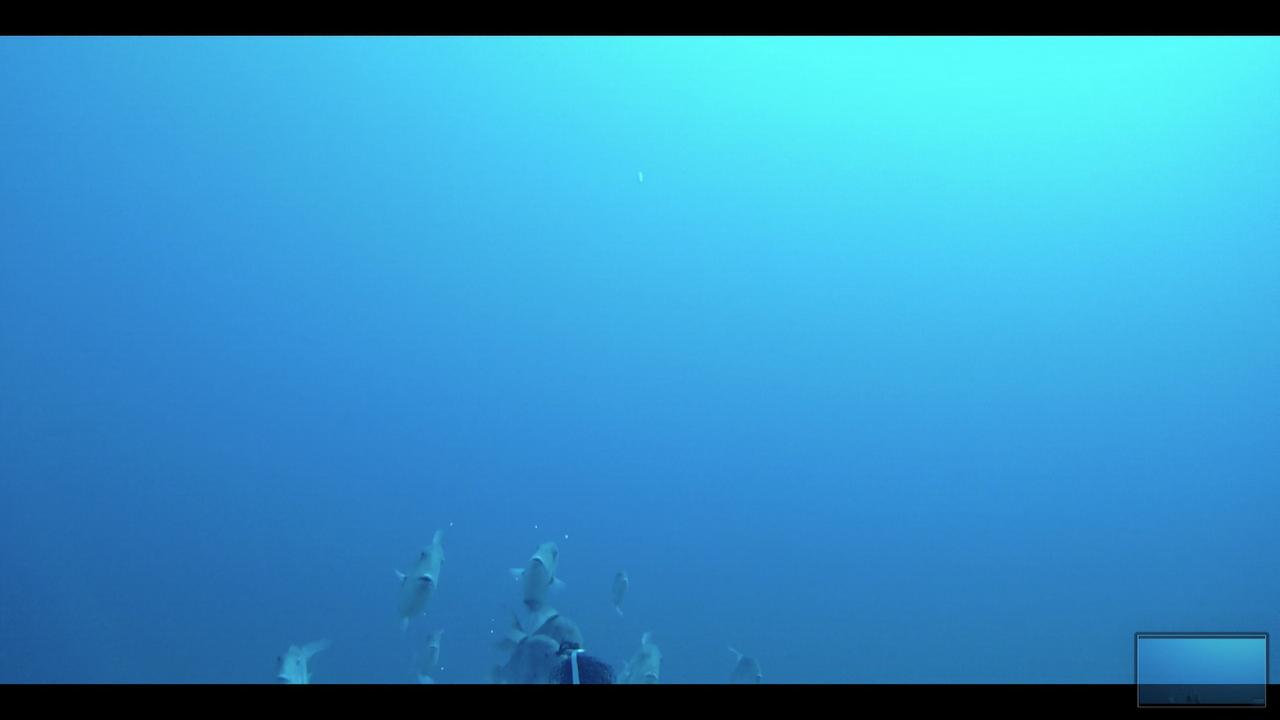balistes: (384, 523, 443, 631), (497, 535, 565, 604), (265, 631, 340, 680), (604, 630, 667, 687), (596, 556, 635, 619)
